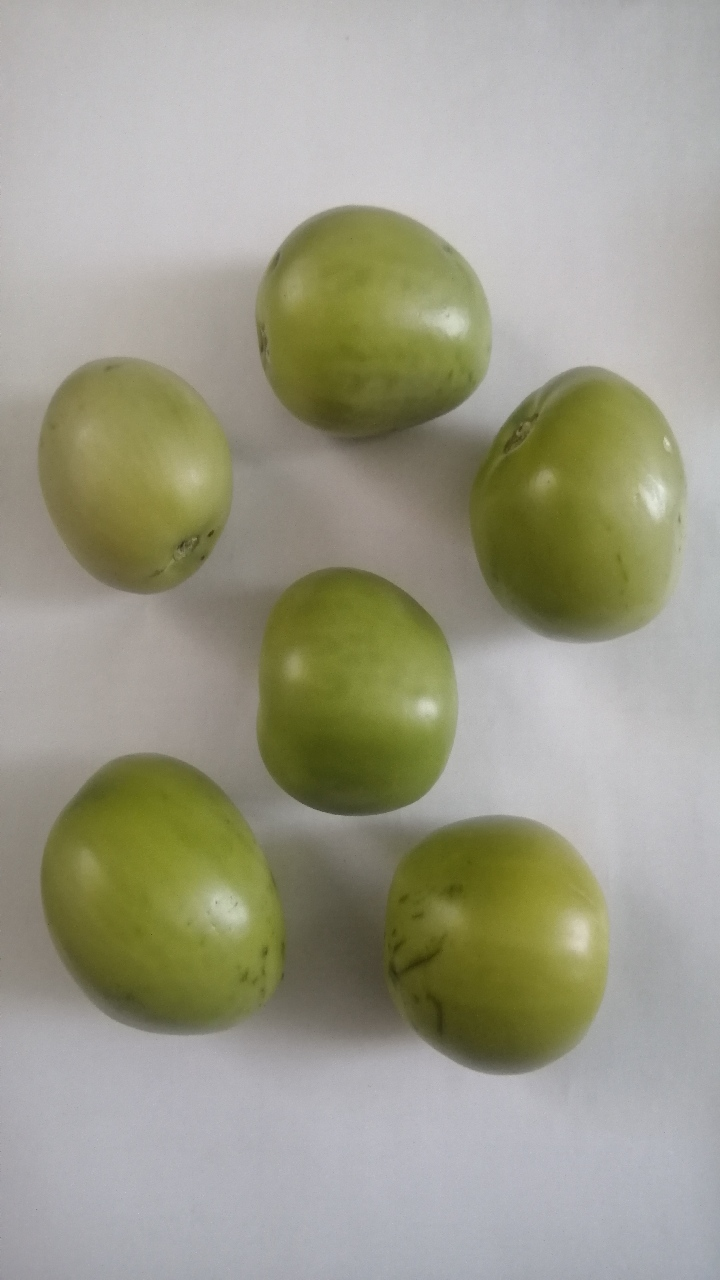tomateVerde: (31, 740, 295, 1045), (232, 180, 503, 463), (454, 348, 695, 655), (232, 555, 484, 839), (372, 811, 623, 1089), (9, 342, 234, 612)
